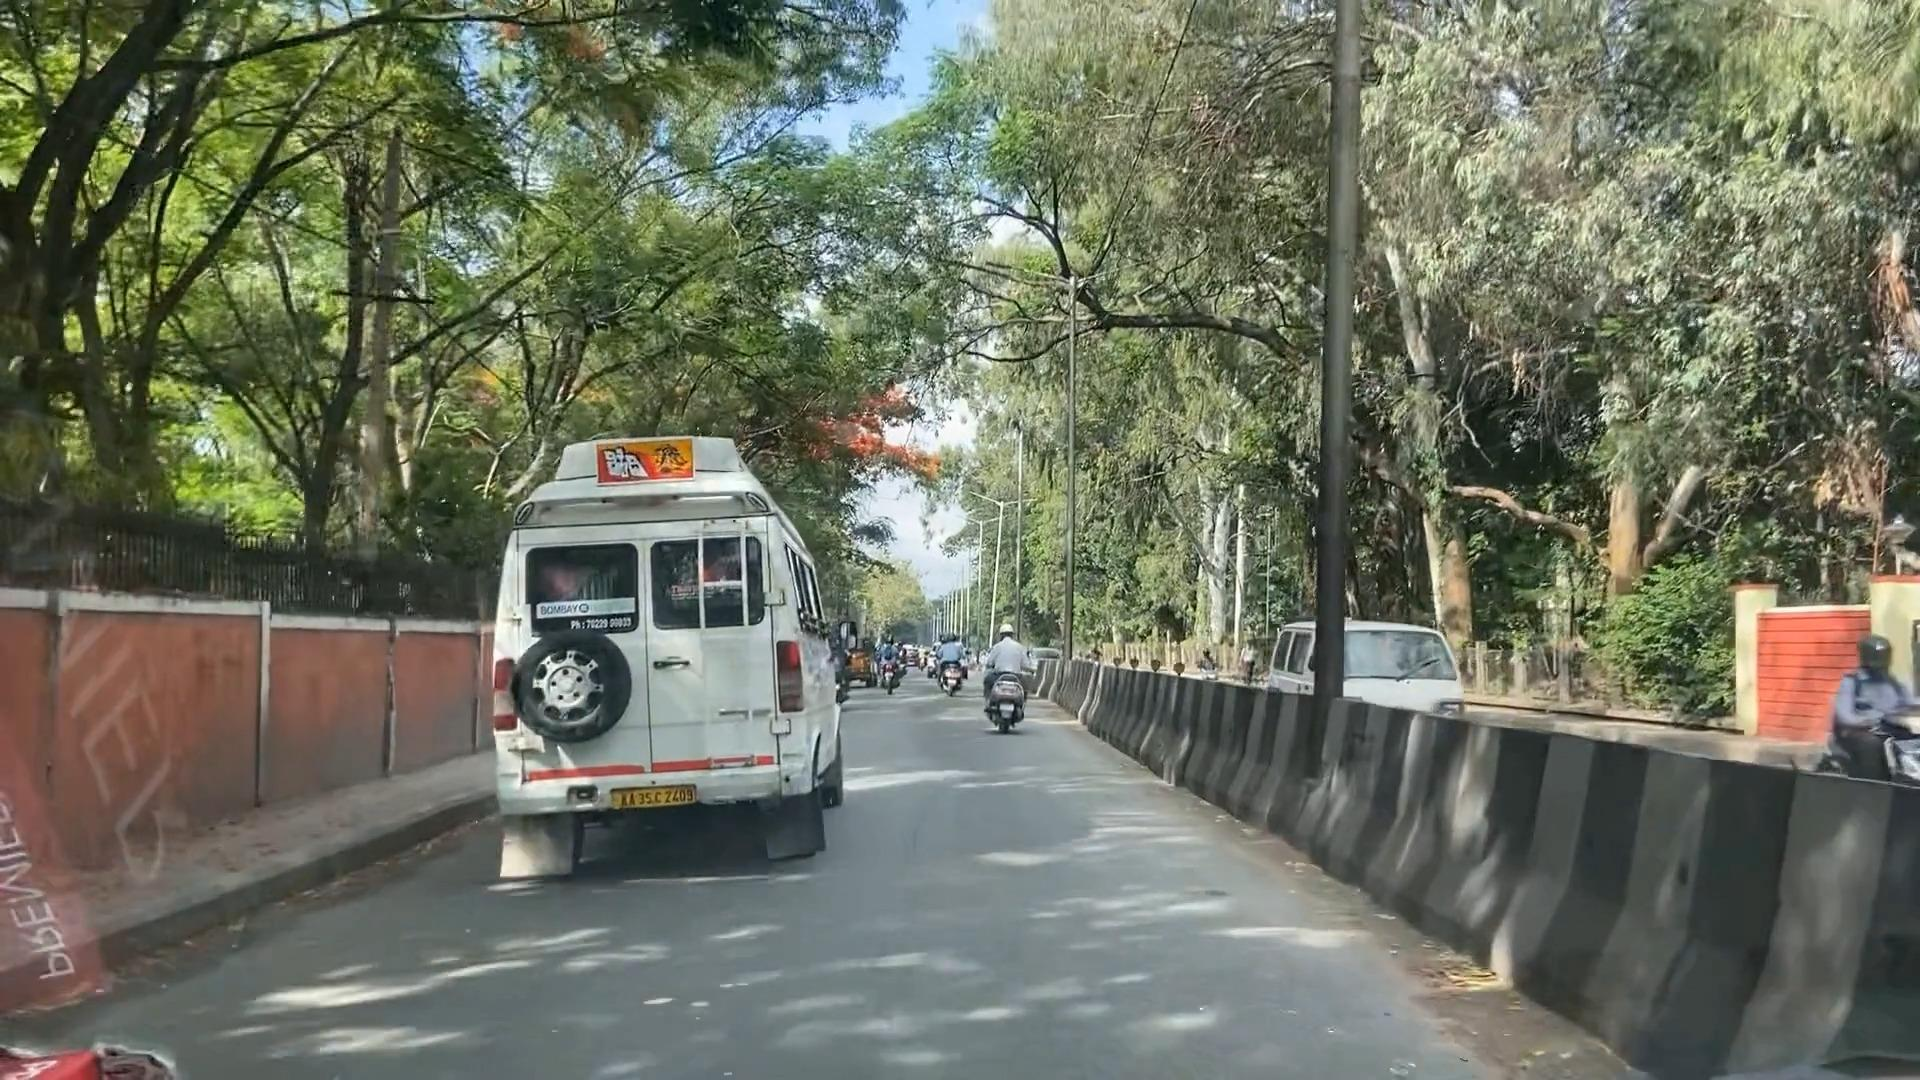HMV: (465, 415, 865, 866)
